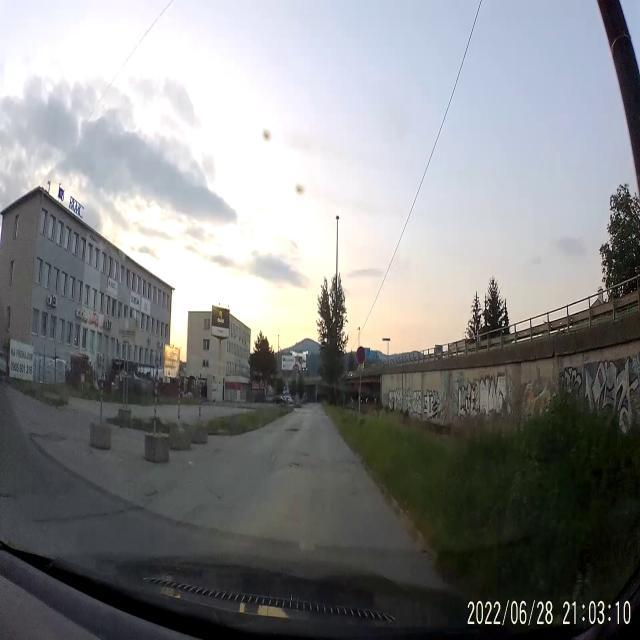Pothole: (288, 458, 303, 468), (285, 426, 299, 434)
